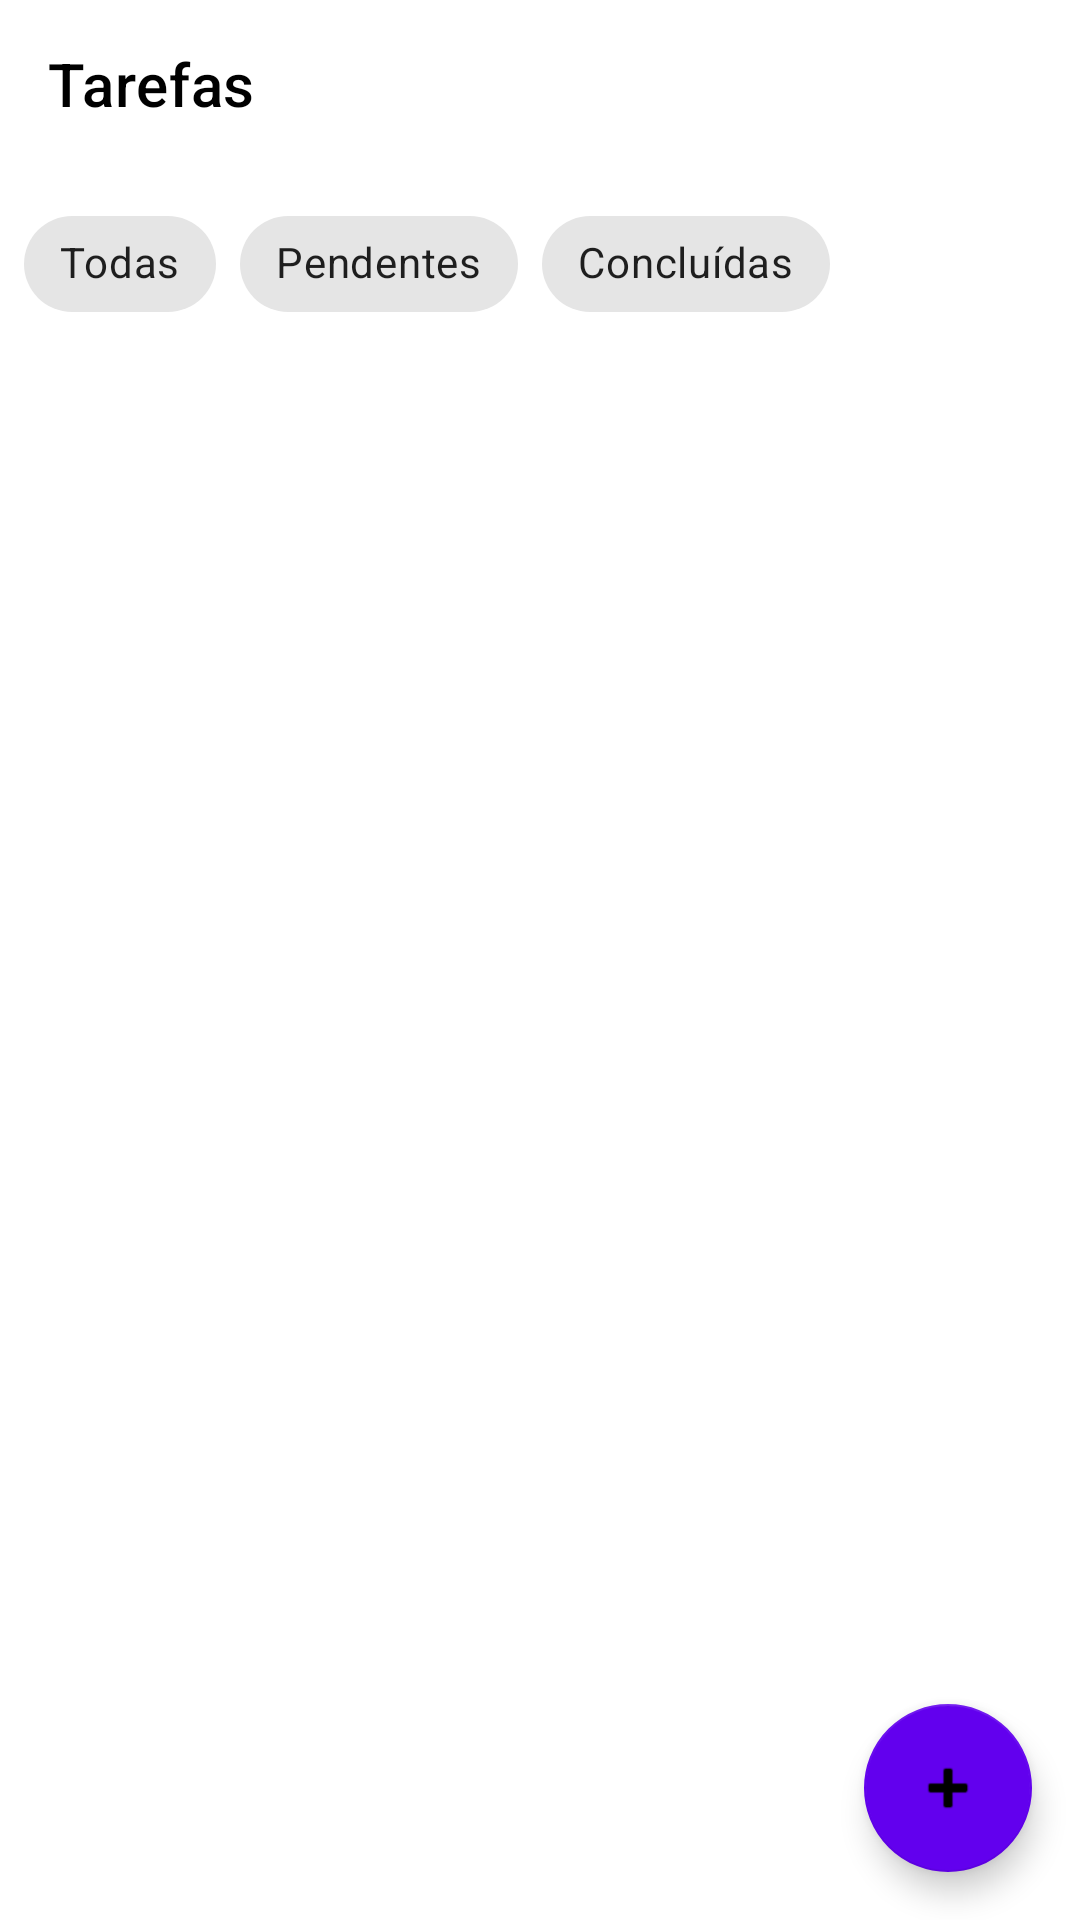

Screen size 1080×1920. Icon name, then its center in pixels as (x,y):
Adicionar tarefa: (948,1788)
